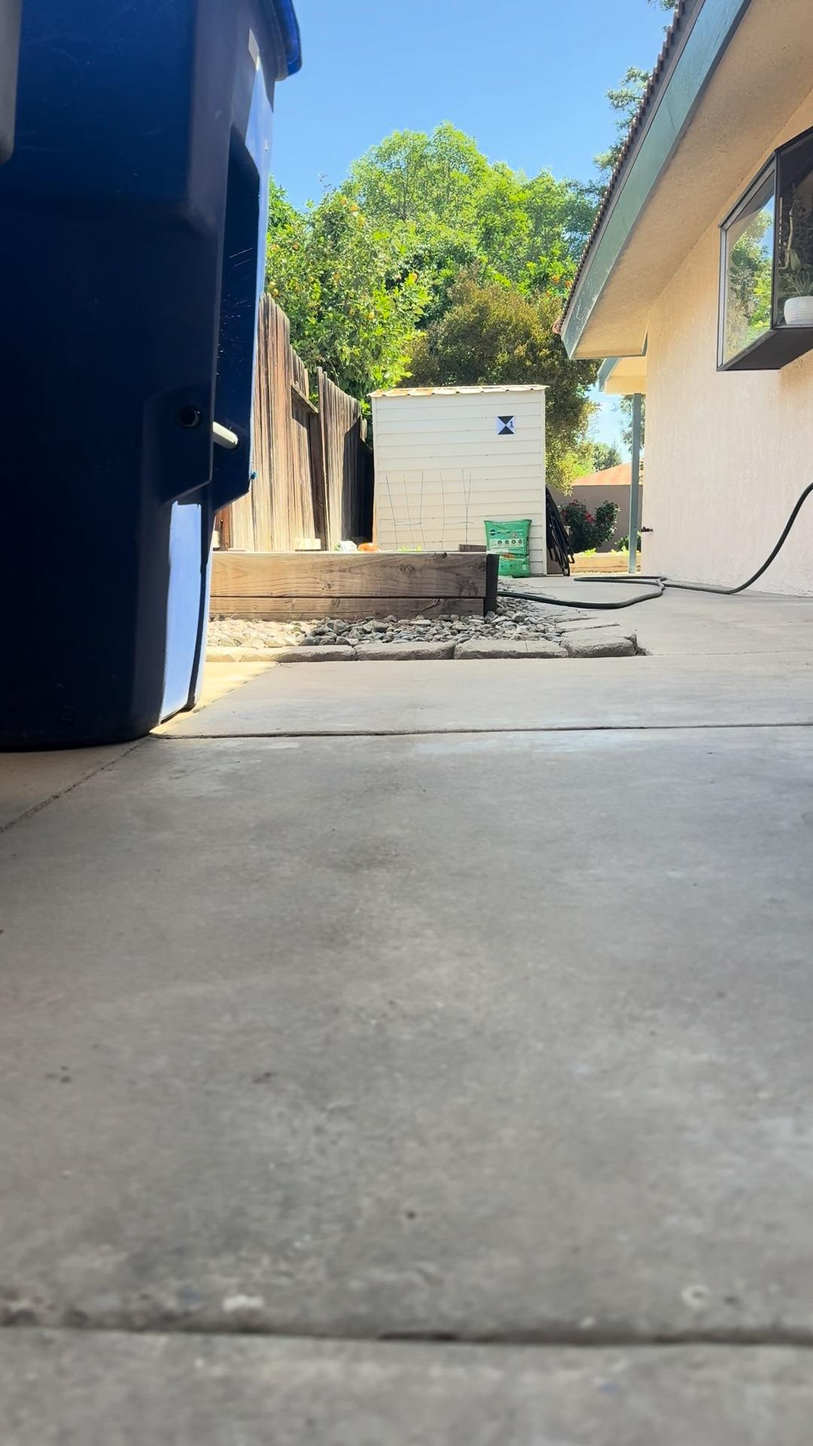target1: (495, 414, 517, 437)
